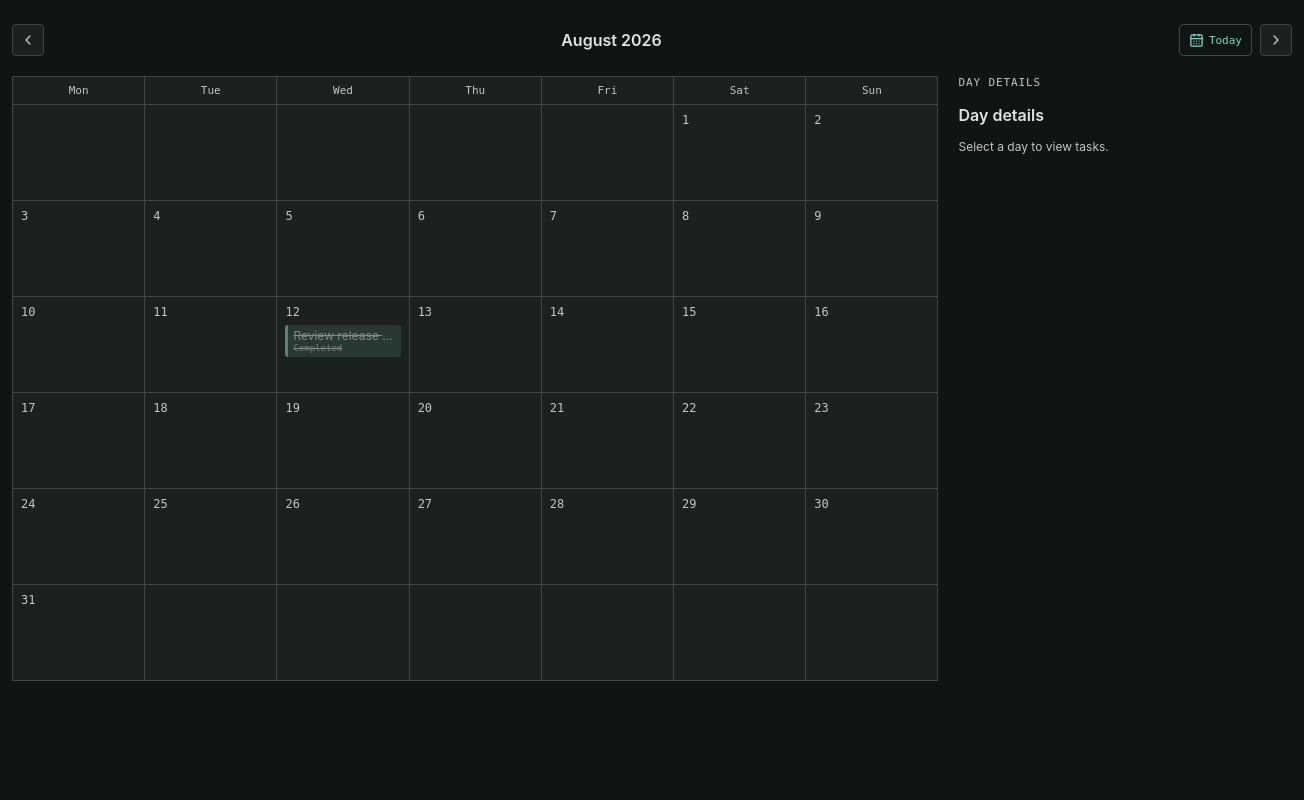
Test: renders selected tasks in a read-only ledger with their real project and completed state
This screenshot has width=1304, height=800.
Expected: the text "Select a day to view tasks." is shown, [958,139,1109,154]
Click the button with aria-label "Wednesday, August 12, 2026, 1 tasks, 1 completed" at (344, 345), box [277,297,410,393]
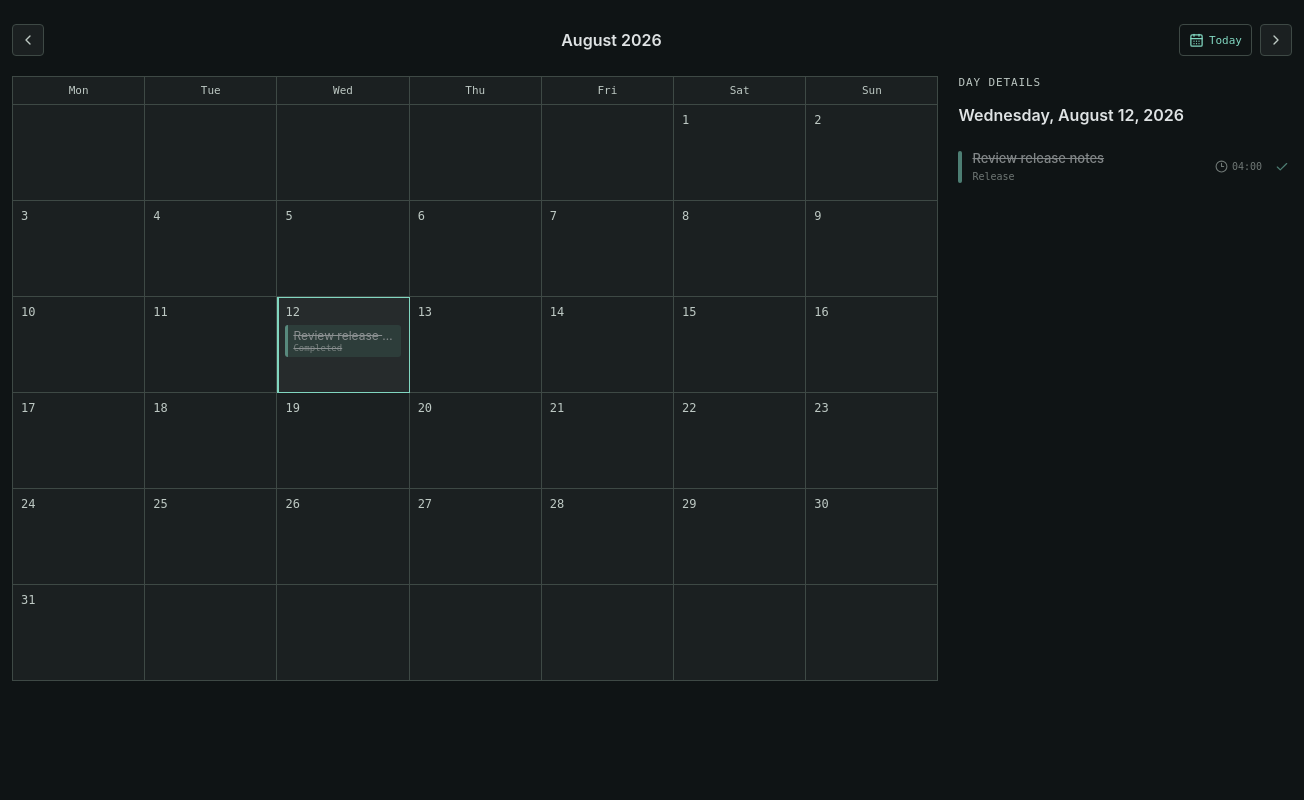
Now the list with class "task-ledger" is shown, box [958,138,1292,196]
Now the text "Review release notes" next to "04:00" is shown, box [972,150,1104,166]
Now the text "Release" is shown, box [972,171,1015,182]
